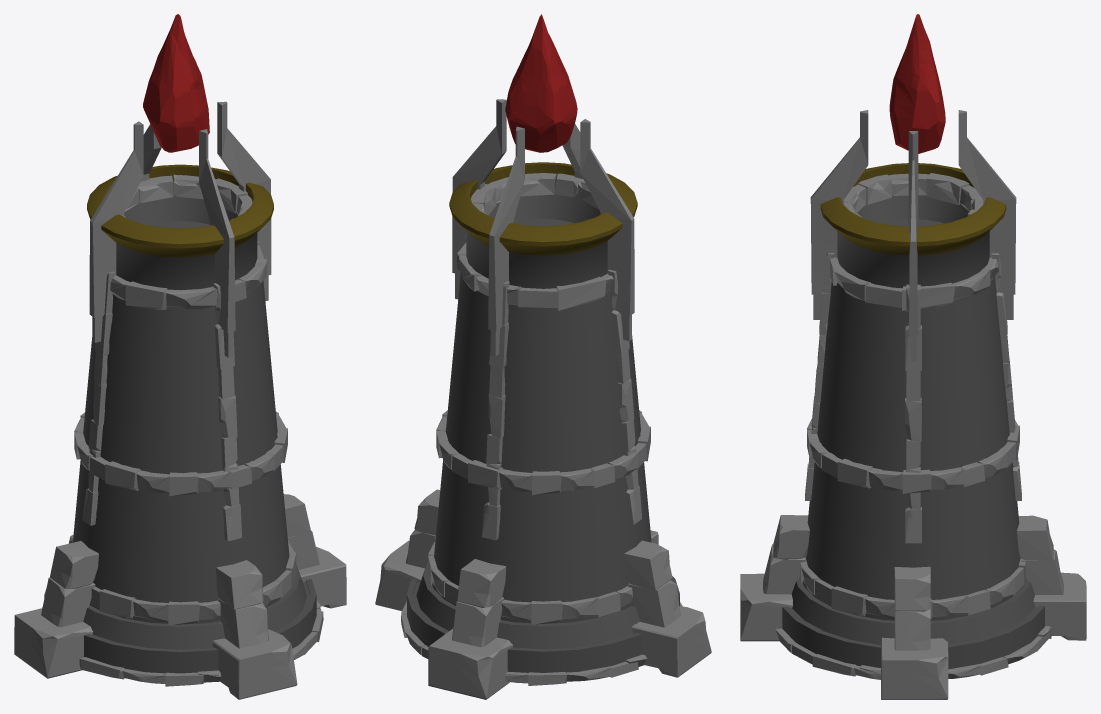
The model's file is SM_turret_moba.fbx.
The picture shows the model from 3 angles, left to right: view 1: azimuth 30°, elevation 25°; view 2: azimuth 150°, elevation 25°; view 3: azimuth 270°, elevation 25°; orthographic projection.
Parts seen in each view (by area): view 1: Cylinder010; view 2: Cylinder010; view 3: Cylinder010.
Boxes of the visible parts, left/top/right/bottom form: Cylinder010: left=14, top=14, right=346, bottom=699; Cylinder010: left=375, top=14, right=711, bottom=699; Cylinder010: left=740, top=14, right=1086, bottom=699.
Size of the model in its own units: 313 by 313 by 612.
